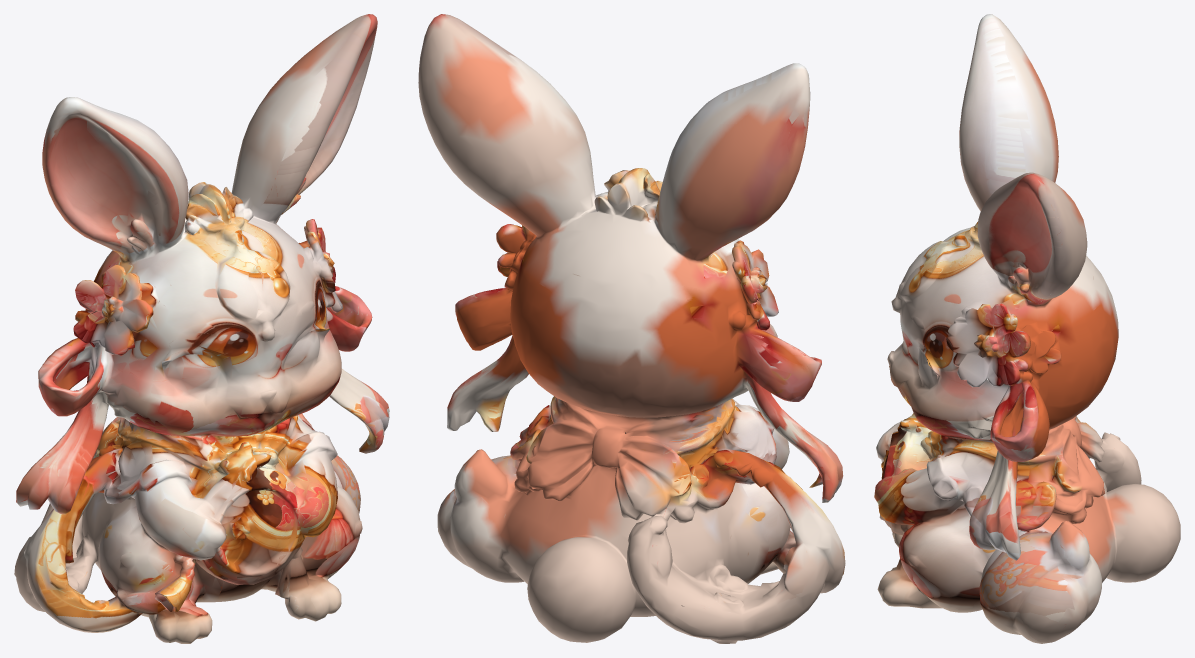
Rendered from original.glb.
The picture shows the model from 3 angles, left to right: view 1: azimuth 30°, elevation 25°; view 2: azimuth 150°, elevation 25°; view 3: azimuth 270°, elevation 25°; orthographic projection. The views are drawn at different scales.
Visible parts, largest first — view 1: Body; view 2: Body; view 3: Body.
Part boxes in pixels (x1=…): Body: x1=14, y1=14, x2=389, y2=643; Body: x1=418, y1=14, x2=845, y2=643; Body: x1=874, y1=14, x2=1180, y2=643.
Bounding box in the file's own units: 0.7465 × 1 × 0.5552.
Materials: 2 (2 with a texture image).
